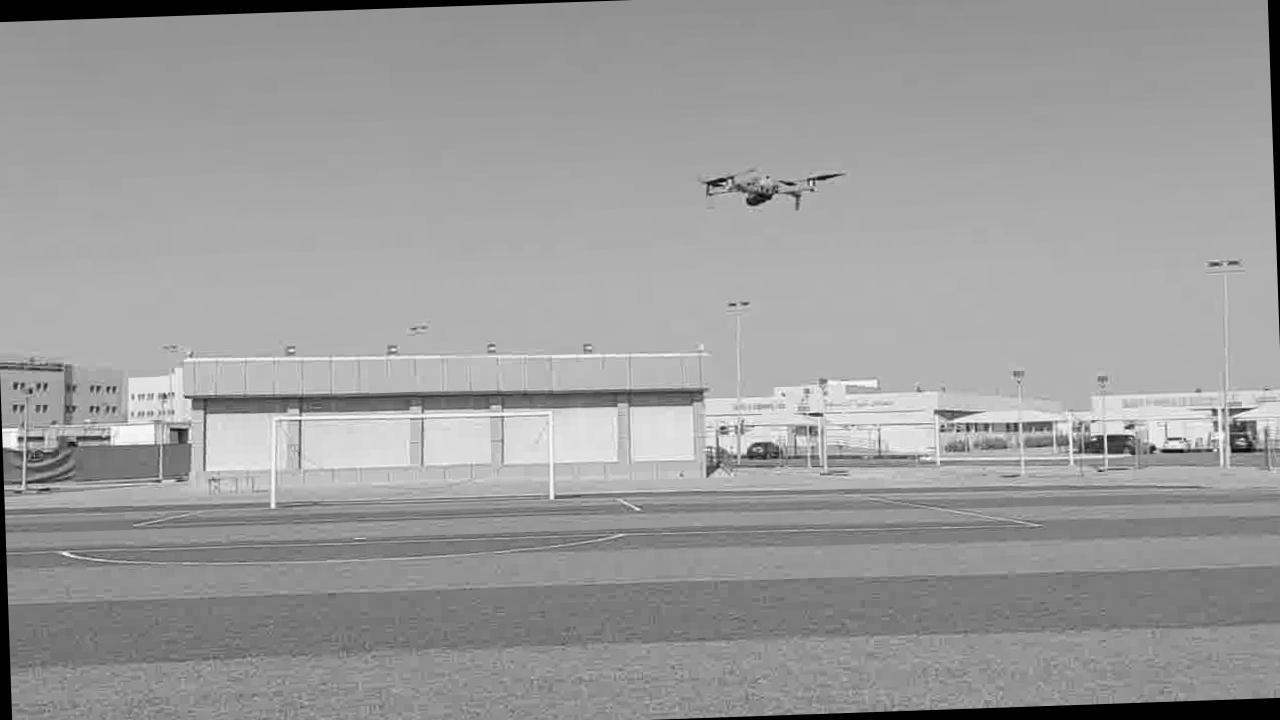drone: (689, 157, 845, 223)
